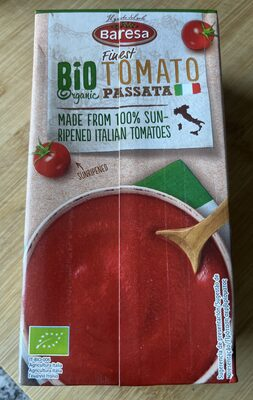Feinste passierte Tomaten Bio: (13, 20, 240, 380)
